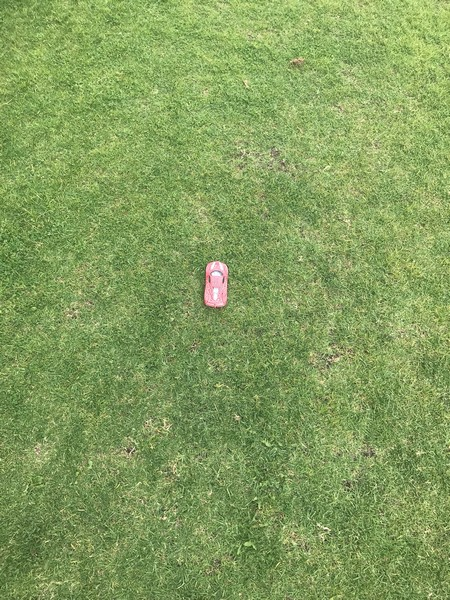RC: (202, 260, 230, 307)
